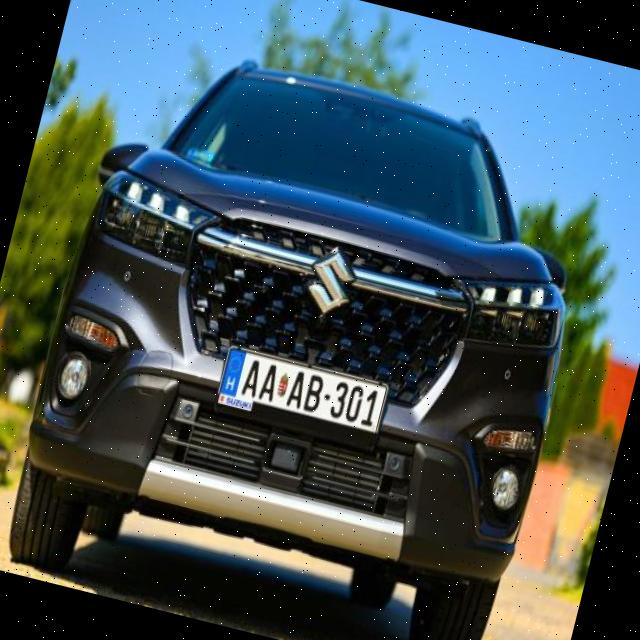licence: (215, 339, 391, 448)
